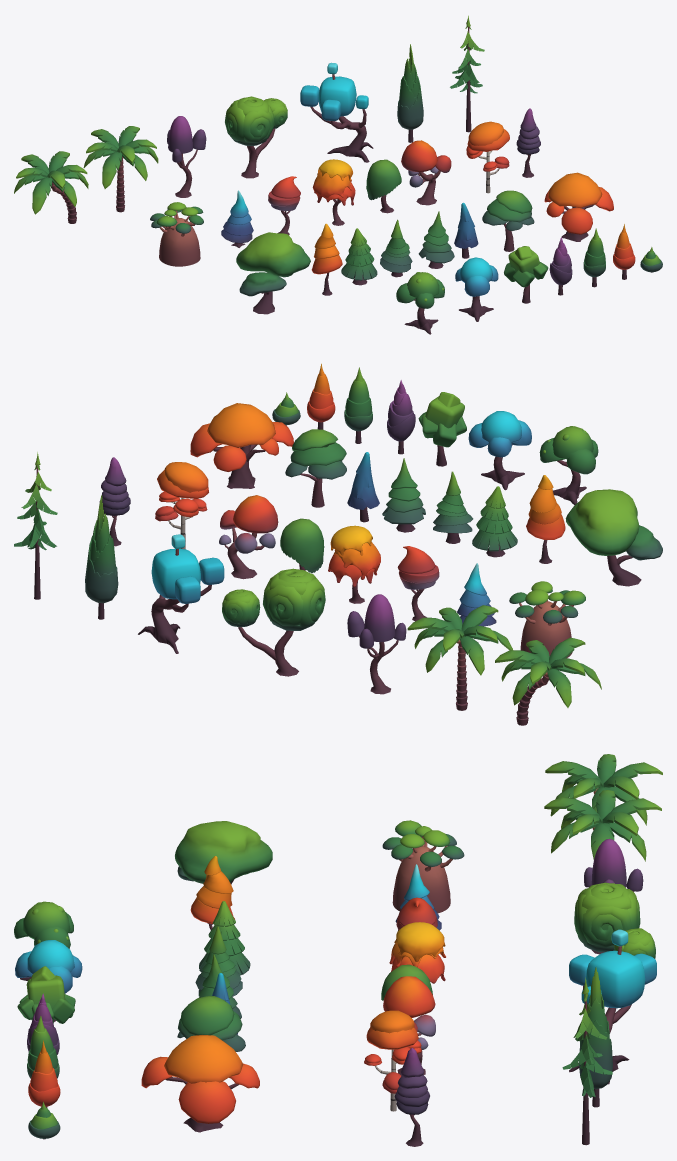
Rendered from Trees_Pack_01_ALL_MODELS.fbx.
The picture shows the model from 3 angles, top to bottom: view 1: azimuth 30°, elevation 25°; view 2: azimuth 150°, elevation 25°; view 3: azimuth 270°, elevation 25°; orthographic projection. The views are drawn at different scales.
Visible parts, largest first — view 1: Tree.026, Tree.024, Tree.023, Tree.006, Tree.028, Tree.029, Tree.027, Tree.019, Tree.007, Tree.017, Tree.013, Tree.021 (+17 smaller); view 2: Tree.023, Tree.026, Tree.006, Tree.024, Tree.028, Tree.029, Tree.027, Tree.019, Tree.007, Tree.021, Tree.022, Tree.012 (+18 smaller); view 3: Tree.006, Tree.026, Tree.024, Tree.023, Tree.027, Tree.028, Tree.029, Tree.021, Tree.017, Tree.007, Tree.019, Tree.025 (+17 smaller).
Part boxes in pixels (bbox=[...]): Tree.026: bbox=[236, 232, 310, 314]; Tree.024: bbox=[300, 62, 373, 162]; Tree.023: bbox=[225, 96, 287, 178]; Tree.006: bbox=[544, 172, 613, 241]; Tree.028: bbox=[83, 126, 158, 212]; Tree.029: bbox=[14, 151, 88, 223]; Tree.027: bbox=[150, 202, 203, 266]; Tree.019: bbox=[401, 140, 451, 205]; Tree.007: bbox=[482, 190, 534, 251]; Tree.017: bbox=[312, 159, 355, 225]; Tree.013: bbox=[396, 272, 444, 334]; Tree.021: bbox=[466, 121, 509, 193]; Tree.023: bbox=[222, 568, 325, 676]; Tree.026: bbox=[565, 489, 662, 586]; Tree.006: bbox=[190, 403, 293, 488]; Tree.024: bbox=[138, 534, 224, 653]; Tree.028: bbox=[407, 605, 512, 710]; Tree.029: bbox=[495, 637, 601, 725]; Tree.027: bbox=[509, 581, 585, 658]; Tree.019: bbox=[219, 495, 278, 579]; Tree.007: bbox=[285, 429, 346, 507]; Tree.021: bbox=[155, 462, 208, 549]; Tree.022: bbox=[347, 594, 406, 694]; Tree.012: bbox=[468, 411, 531, 490]; Tree.006: bbox=[141, 1035, 259, 1132]; Tree.026: bbox=[175, 821, 272, 884]; Tree.024: bbox=[569, 929, 656, 1084]; Tree.023: bbox=[574, 882, 655, 958]; Tree.027: bbox=[382, 820, 464, 913]; Tree.028: bbox=[544, 790, 661, 861]; Tree.029: bbox=[545, 754, 662, 825]; Tree.021: bbox=[364, 1010, 421, 1111]; Tree.017: bbox=[389, 922, 445, 983]; Tree.007: bbox=[177, 996, 245, 1051]; Tree.019: bbox=[383, 976, 435, 1075]; Tree.025: bbox=[562, 977, 612, 1145].
Size of the model in its own units: 4670 by 1157 by 4016.
